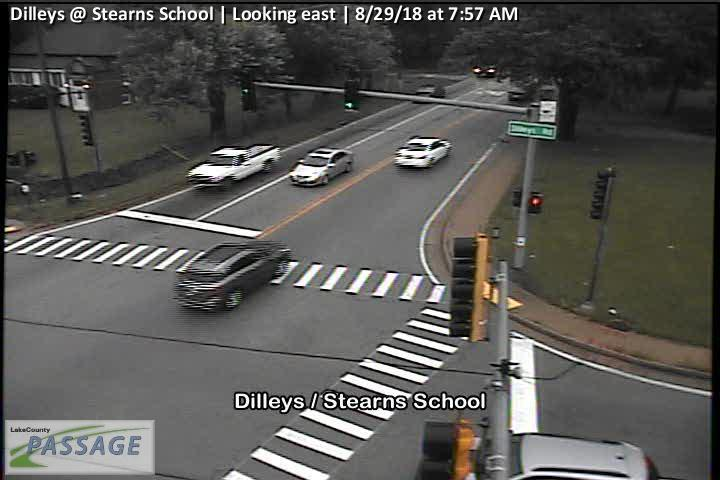SUV: (469, 431, 657, 480), (174, 242, 292, 311)
Sedan: (287, 145, 354, 187), (392, 135, 452, 169)
Truck: (185, 143, 282, 190)
